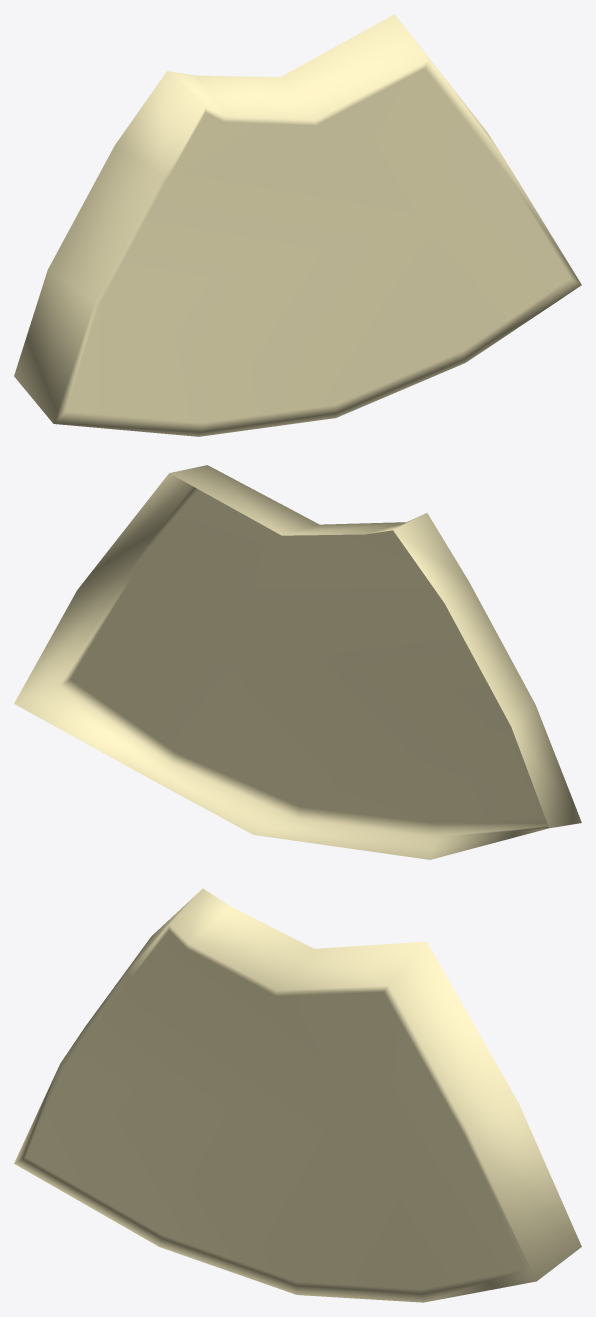
File: ui_radialMenu_6_botMid.glb
3 renders of one model, top to bottom at view 1: azimuth 30°, elevation 25°; view 2: azimuth 150°, elevation 25°; view 3: azimuth 330°, elevation 25°, orthographic.
Parts seen in each view (by area): view 1: main6_botMid; view 2: main6_botMid; view 3: main6_botMid.
Boxes of the visible parts, x1,y1,x2,y2 form: main6_botMid: [14, 14, 581, 436]; main6_botMid: [14, 465, 581, 859]; main6_botMid: [14, 888, 581, 1302].
Size of the model in its own units: 1 by 0.6297 by 0.1295.
